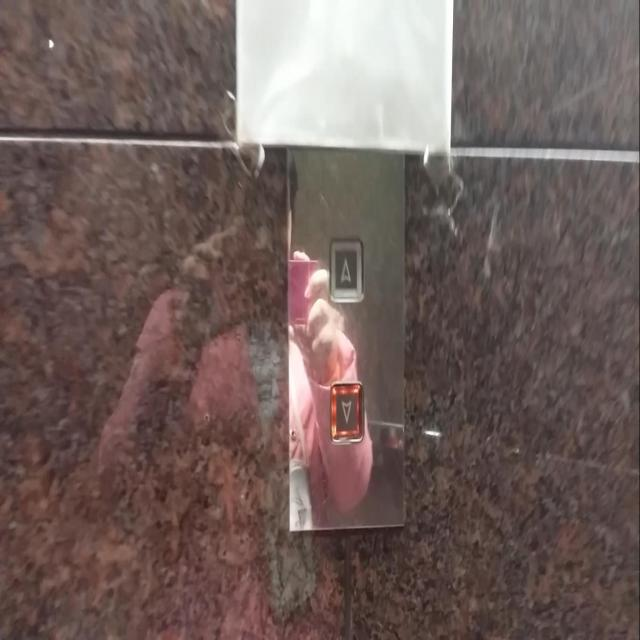down: (328, 380, 364, 445)
up: (328, 237, 364, 303)
